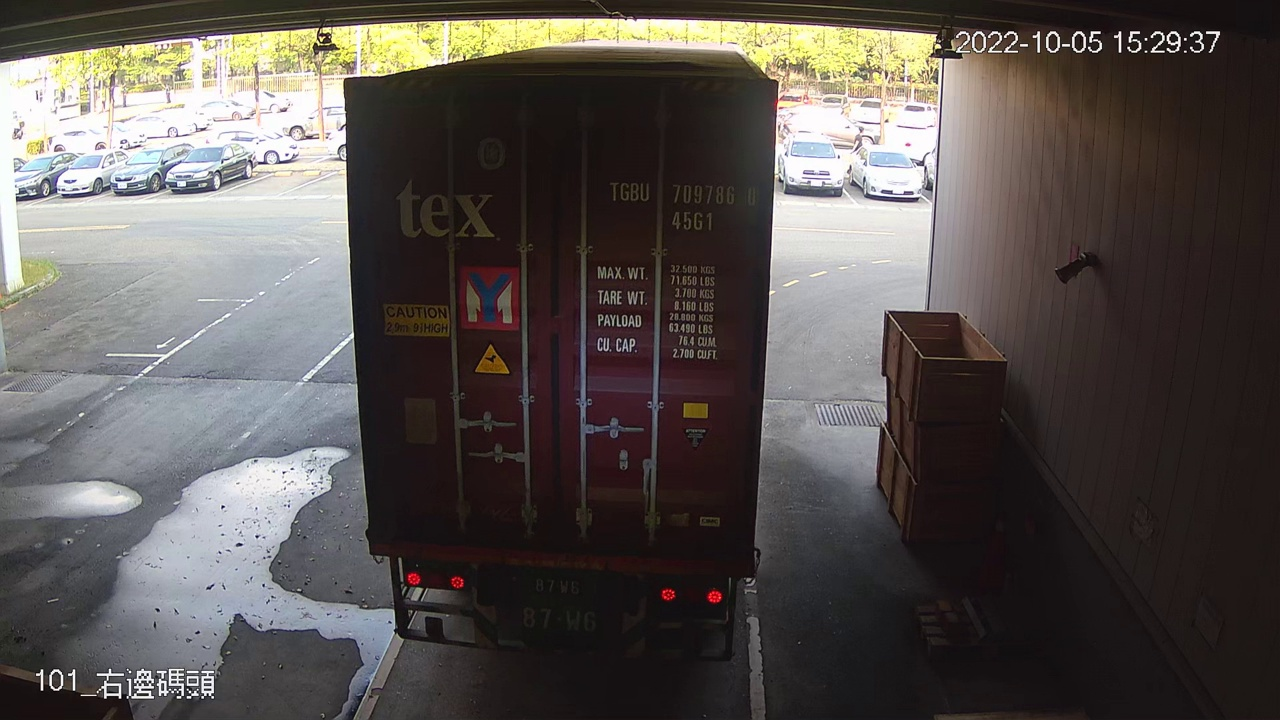container: (603, 175, 764, 237)
